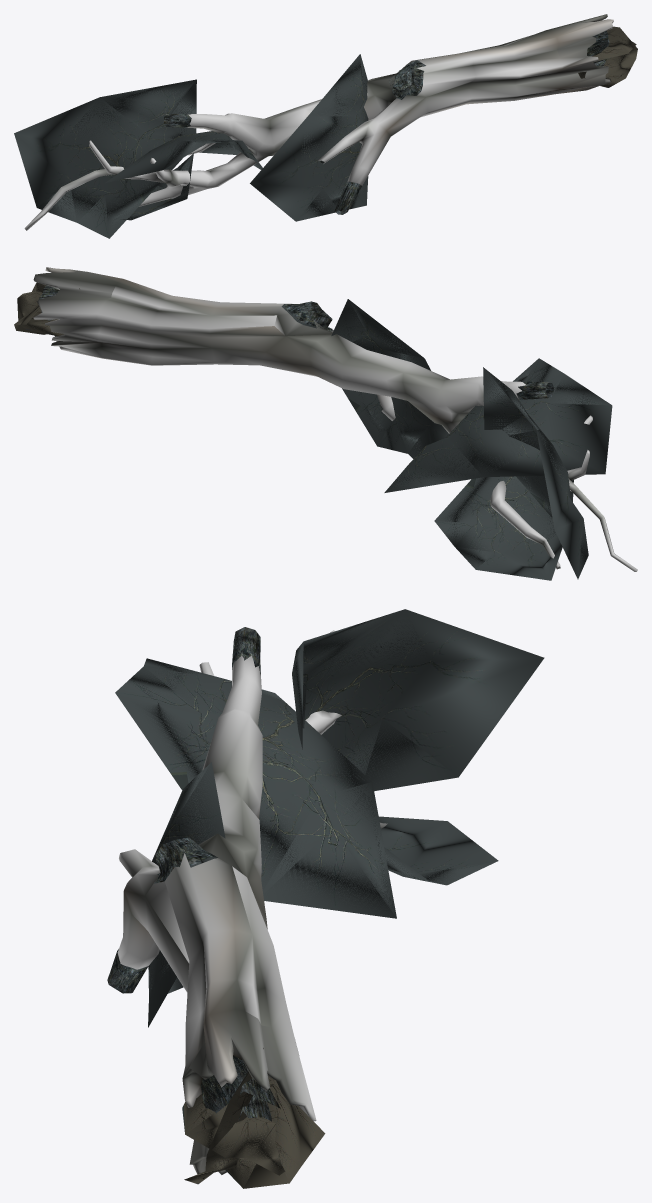
The model's file is TreeHardwoodLog.FBX.
3 renders of one model, top to bottom at view 1: azimuth 30°, elevation 25°; view 2: azimuth 150°, elevation 25°; view 3: azimuth 270°, elevation 25°, orthographic. The views are drawn at different scales.
Visible parts, largest first — view 1: TreeWastelandHardwoodLog01:1, TreeWastelandHardwoodLog01:0; view 2: TreeWastelandHardwoodLog01:1, TreeWastelandHardwoodLog01:0; view 3: TreeWastelandHardwoodLog01:1, TreeWastelandHardwoodLog01:0.
Part boxes in pixels (<box>): TreeWastelandHardwoodLog01:1: <box>14,26,637,238</box>; TreeWastelandHardwoodLog01:0: <box>24,14,613,230</box>; TreeWastelandHardwoodLog01:1: <box>14,282,612,580</box>; TreeWastelandHardwoodLog01:0: <box>33,267,637,571</box>; TreeWastelandHardwoodLog01:1: <box>107,609,544,1188</box>; TreeWastelandHardwoodLog01:0: <box>117,630,387,1179</box>.
Size of the model in its own units: 7.25 by 1.78 by 2.39.
